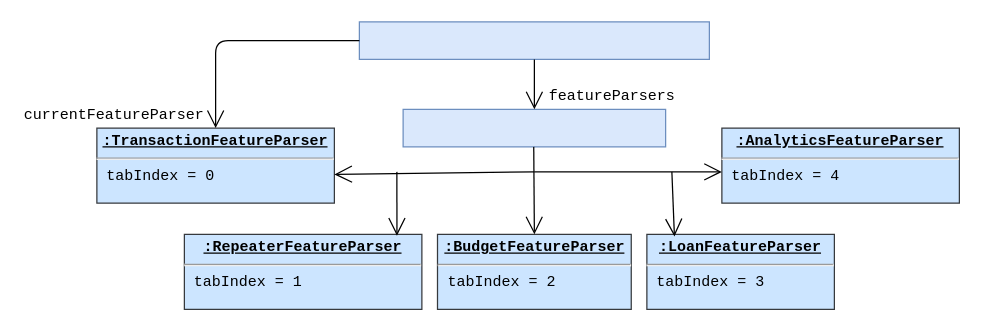
This 981x331 diagram has some shape labels left out. The shapes that lost their labels are listed below. From the top down, each one's centre as x and y in pixels, then its label:
At (x=533, y=40): ":IchiFundParser".
At (x=534, y=127): ":ArrayList<FeatureParser>".
